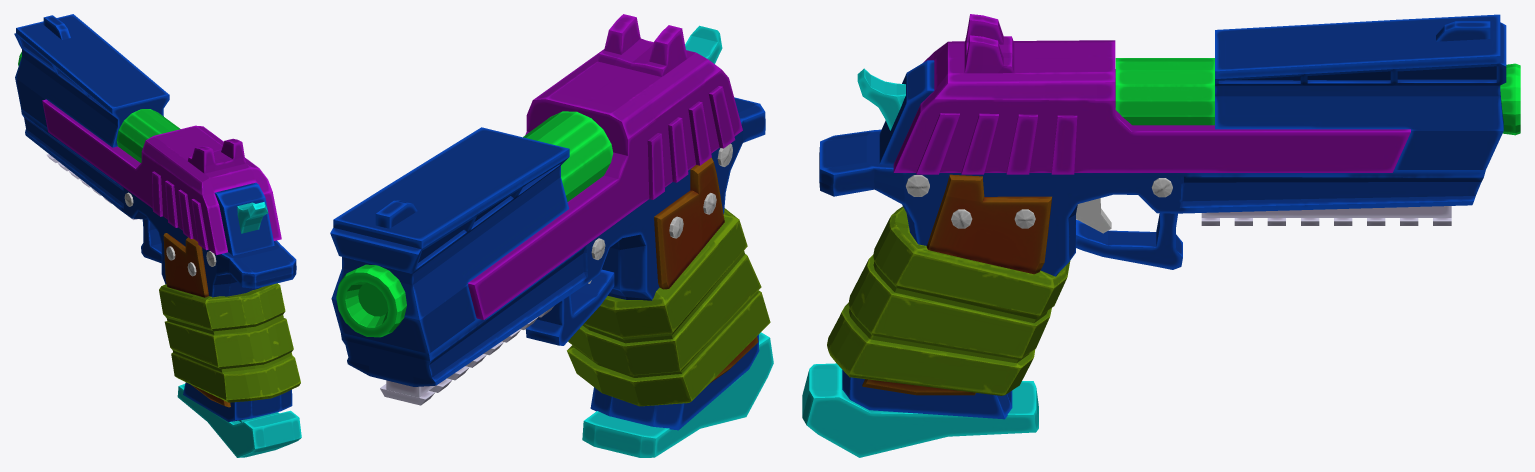
3 views of the same model, side by side, from view 1: azimuth 30°, elevation 25°; view 2: azimuth 150°, elevation 25°; view 3: azimuth 270°, elevation 25° (orthographic). The views are drawn at different scales.
Visible parts, largest first — view 1: Frame, Slide, Tape, Magazine, Grips, Barrel, Hammer, Pins; view 2: Frame, Slide, Tape, Barrel, Magazine, Grips, Rail, Pins, Hammer; view 3: Frame, Slide, Tape, Magazine, Grips, Barrel, Rail, Hammer, Pins, Trigger.
Part boxes in pixels (x1,y1,x2,y2): Frame: (14,14,296,421); Slide: (42,99,281,255); Tape: (159,283,300,402); Magazine: (177,384,301,457); Grips: (163,233,230,407); Barrel: (18,52,180,162); Hammer: (237,202,268,233); Pins: (124,192,216,276); Frame: (330,97,765,430); Slide: (467,14,742,319); Tape: (567,208,770,406); Barrel: (336,111,613,337); Magazine: (582,332,773,457); Grips: (654,157,758,383); Rail: (380,306,553,405); Pins: (591,143,732,259); Hammer: (685,25,722,63); Frame: (819,14,1506,419); Slide: (893,14,1410,174); Tape: (827,206,1070,395); Magazine: (802,363,1038,457); Grips: (862,174,1052,395); Barrel: (1115,58,1520,135); Rail: (1201,206,1451,225); Hammer: (857,68,905,130); Pins: (905,175,1172,228); Trigger: (1076,198,1111,233).
Bounding box in the file's own units: 0.3641 × 1.29 × 2.
Materials: 1 (1 with a texture image).
